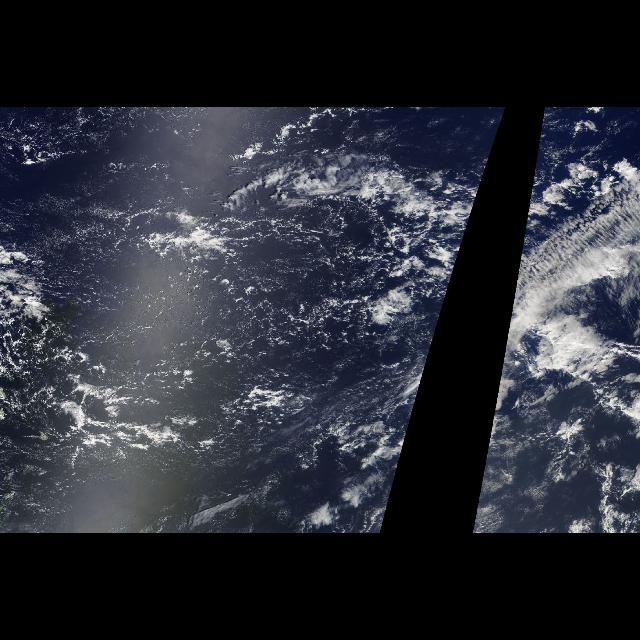Fish: (516, 162, 638, 308)
Gravel: (77, 265, 377, 391)
Sugar: (7, 110, 142, 260)
